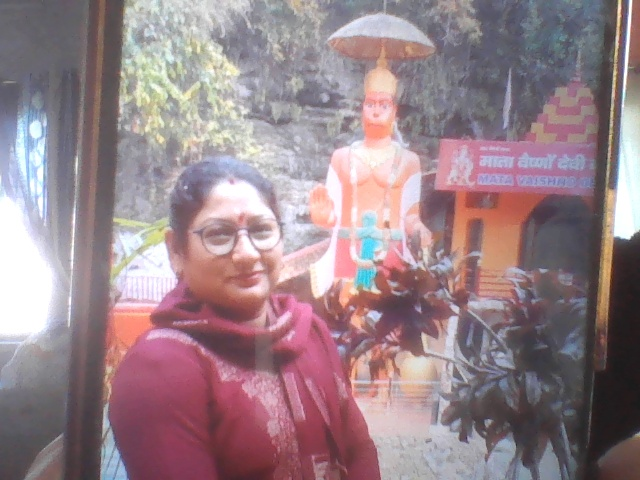fake: (170, 151, 299, 334)
